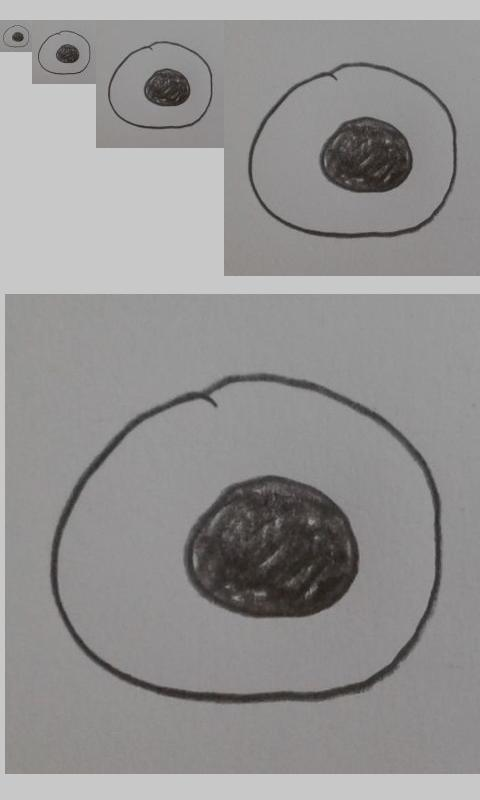radio_button: (46, 370, 446, 707), (245, 59, 460, 240), (107, 40, 213, 130), (37, 30, 92, 75), (2, 24, 30, 48)
